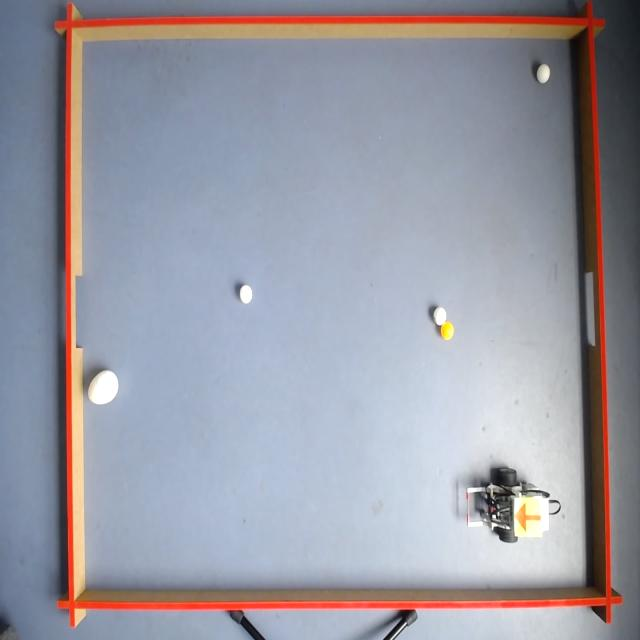egg: (88, 369, 119, 407)
orange_ball: (440, 322, 456, 342)
robot: (514, 498, 542, 538)
white_ball: (238, 284, 254, 305), (536, 64, 551, 85), (433, 305, 447, 327)
